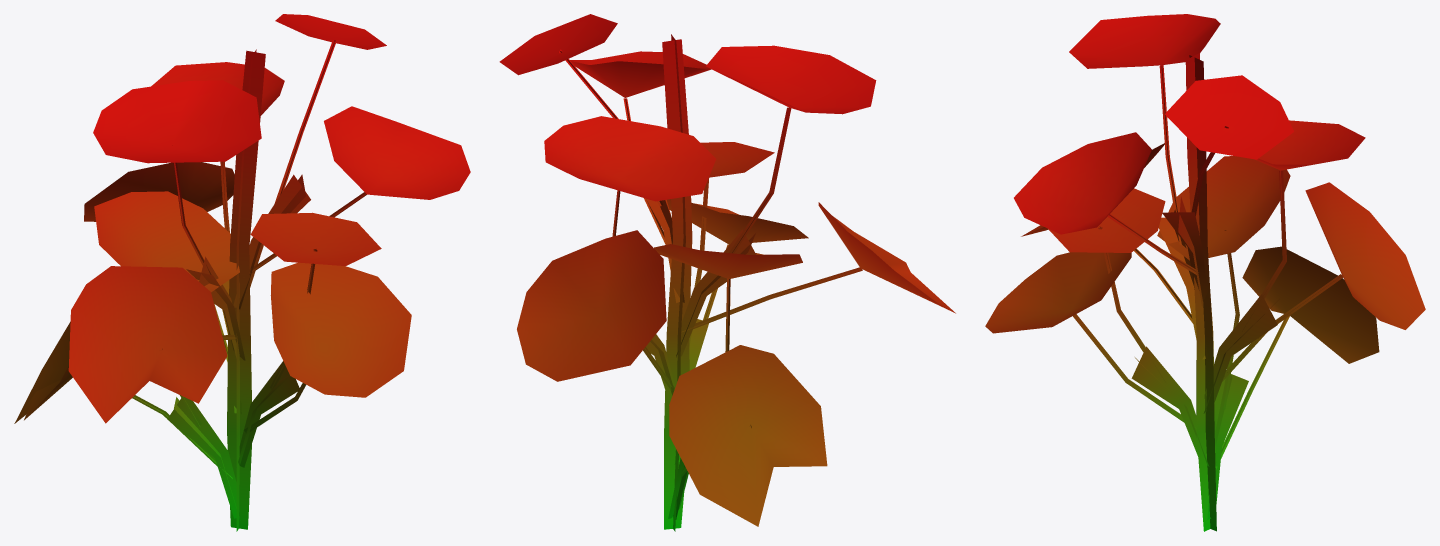
Rendered from Var4_LOD3.fbx.
3 renders of one model, left to right at view 1: azimuth 30°, elevation 25°; view 2: azimuth 150°, elevation 25°; view 3: azimuth 270°, elevation 25°, orthographic.
Visible parts, largest first — view 1: _7bc9_Var4_LOD3; view 2: _7bc9_Var4_LOD3; view 3: _7bc9_Var4_LOD3.
Boxes of the visible parts, <box> form: _7bc9_Var4_LOD3: <box>14,14,470,531</box>; _7bc9_Var4_LOD3: <box>499,14,955,531</box>; _7bc9_Var4_LOD3: <box>985,14,1425,531</box>.
Bounding box in the file's own units: 66.94 × 81 × 67.52.
